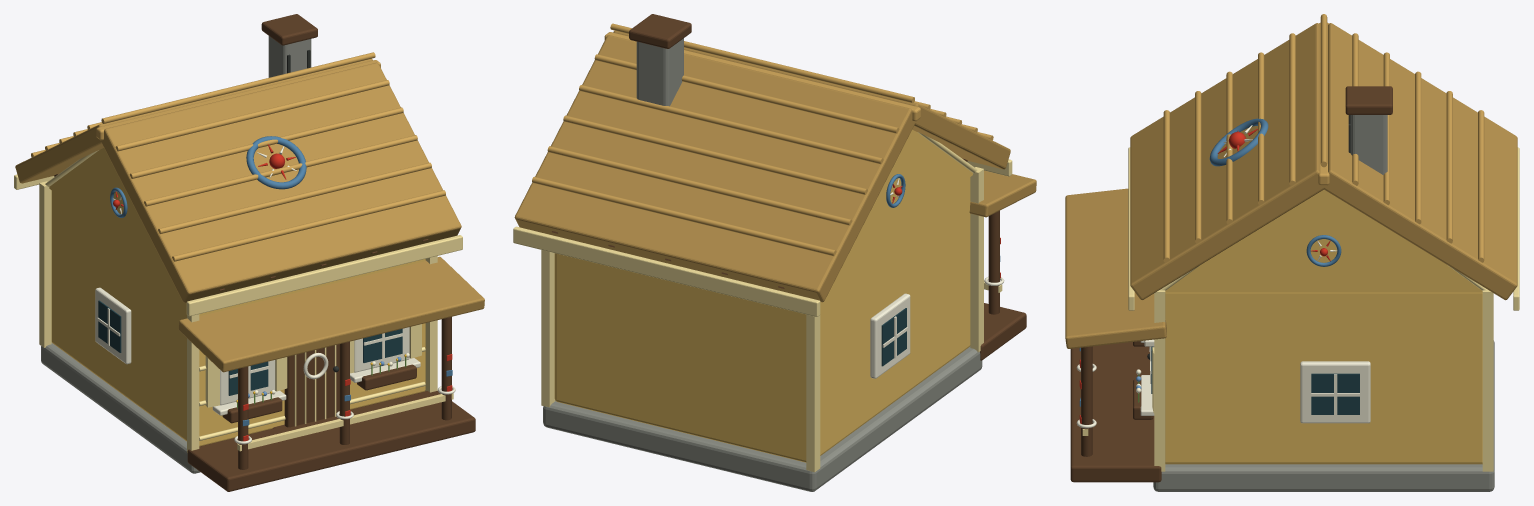
Rendered from house_ochre.glb.
The picture shows the model from 3 angles, left to right: view 1: azimuth 30°, elevation 25°; view 2: azimuth 150°, elevation 25°; view 3: azimuth 270°, elevation 25°; orthographic projection. The views are drawn at different scales.
Parts seen in each view (by area): view 1: house_ochre; view 2: house_ochre; view 3: house_ochre.
Part boxes in pixels (bbox=[...]): house_ochre: bbox=[14, 14, 484, 491]; house_ochre: bbox=[513, 14, 1036, 491]; house_ochre: bbox=[1065, 14, 1519, 491].
Size of the model in its own units: 5.65 by 6.39 by 7.09.
